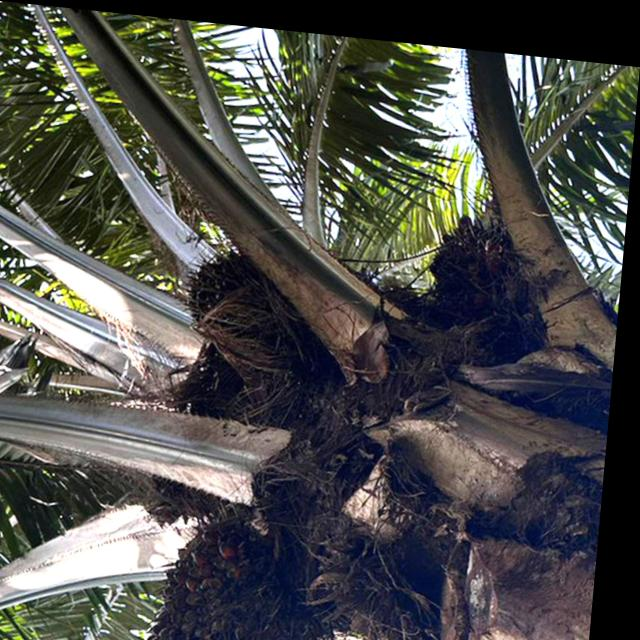unripe: (168, 217, 342, 396)
